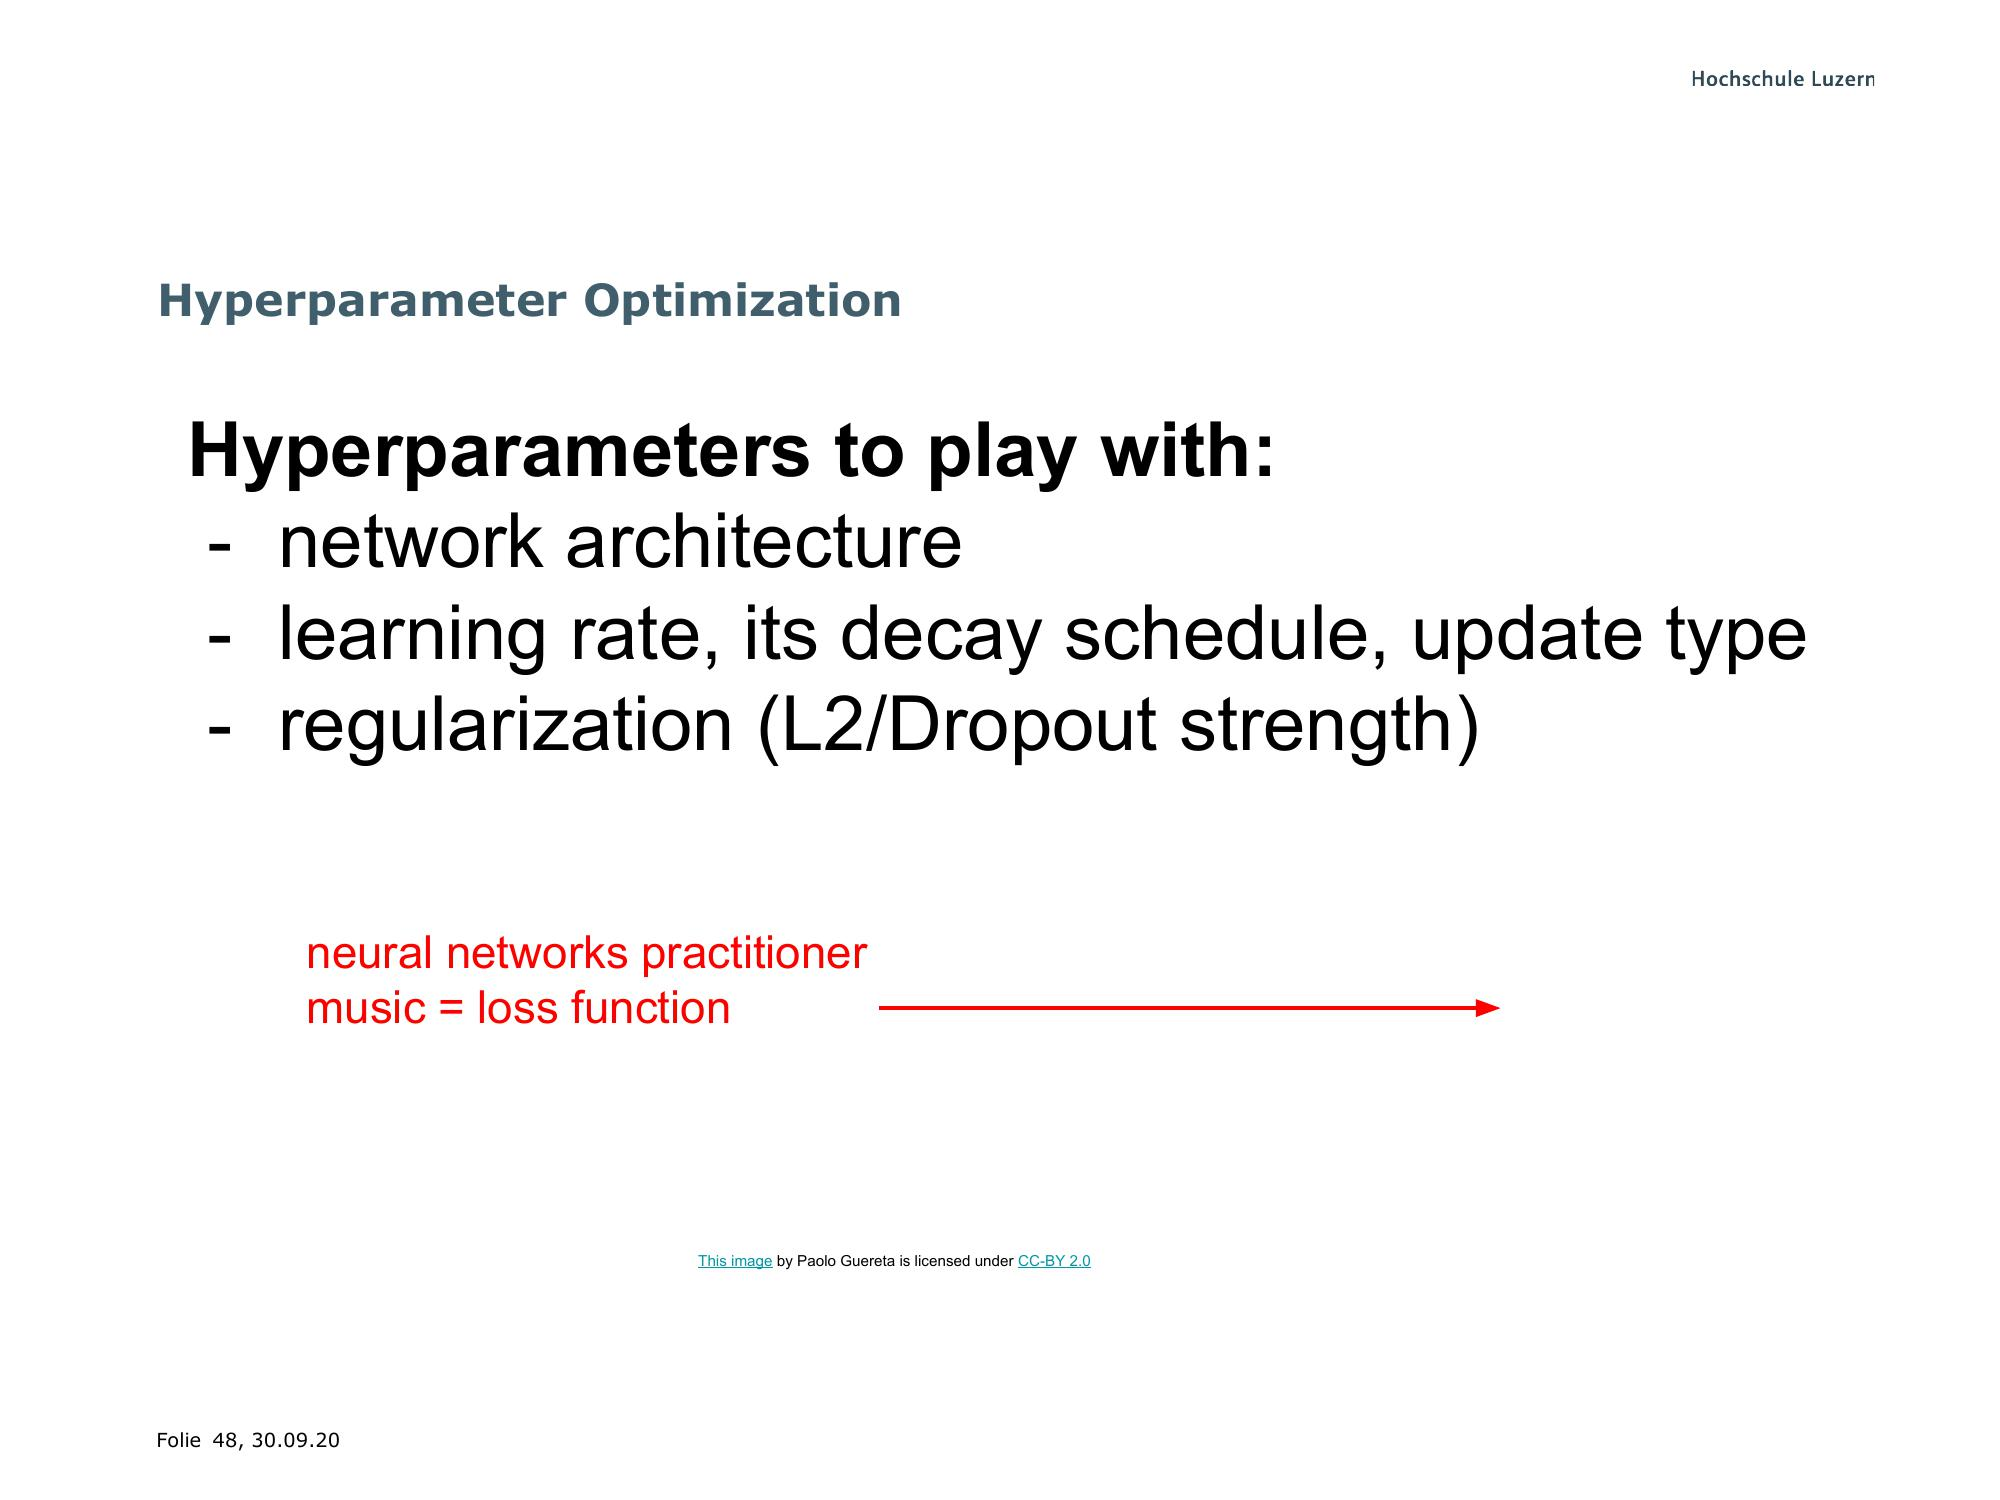Title: (128, 266, 920, 334)
